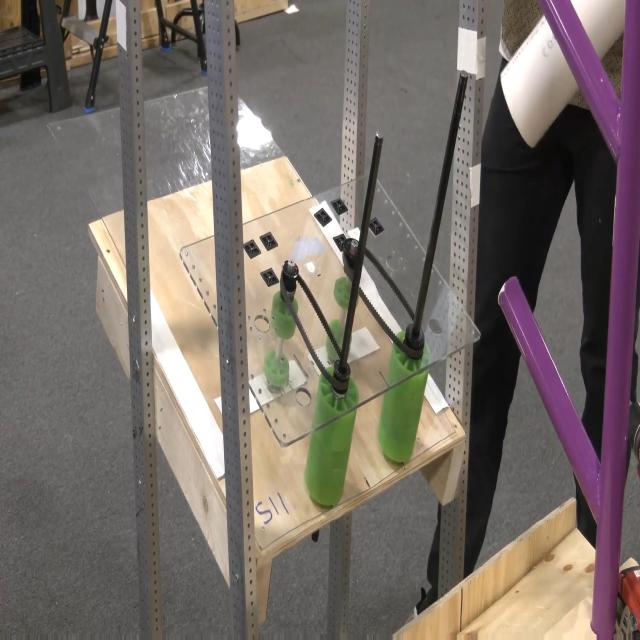Coral: (499, 0, 635, 149)
